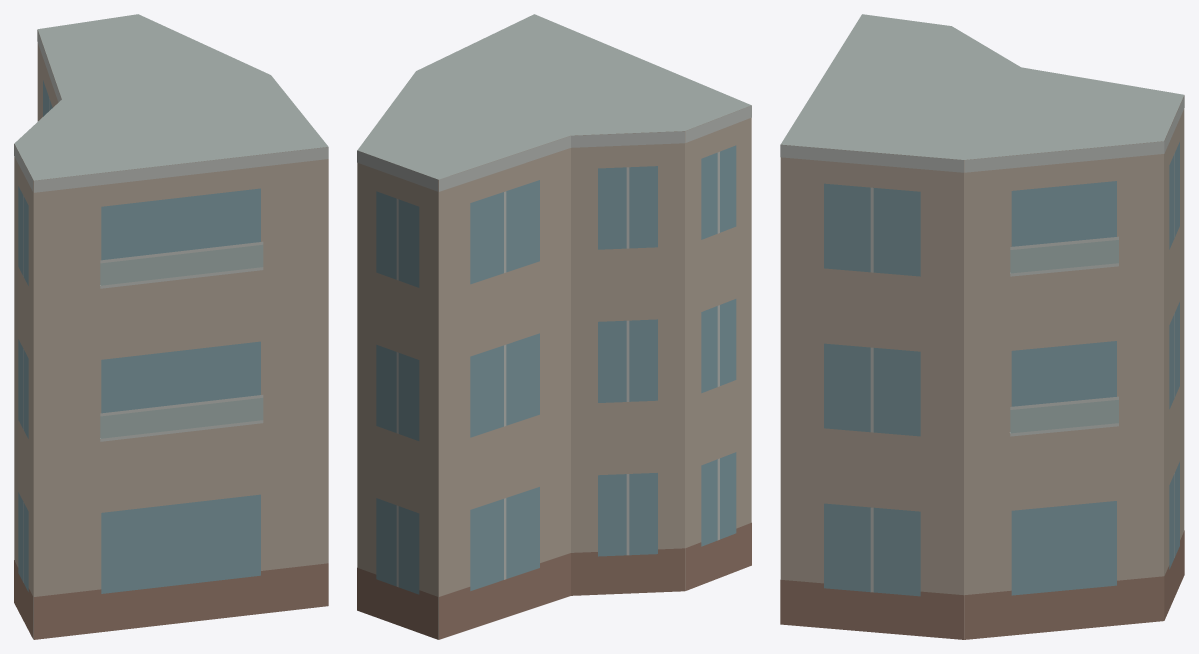
Rendered from survey-upis-32490290.glb.
The picture shows the model from 3 angles, left to right: view 1: azimuth 30°, elevation 25°; view 2: azimuth 150°, elevation 25°; view 3: azimuth 270°, elevation 25°; orthographic projection. The views are drawn at different scales.
Parts seen in each view (by area): view 1: survey-upis-32490290.tmp; view 2: survey-upis-32490290.tmp; view 3: survey-upis-32490290.tmp.
Part boxes in pixels (<box>): survey-upis-32490290.tmp: <box>14,14,328,639</box>; survey-upis-32490290.tmp: <box>357,14,751,639</box>; survey-upis-32490290.tmp: <box>780,14,1184,639</box>.
Bounding box in the file's own units: 5.98 × 9.15 × 6.99.
